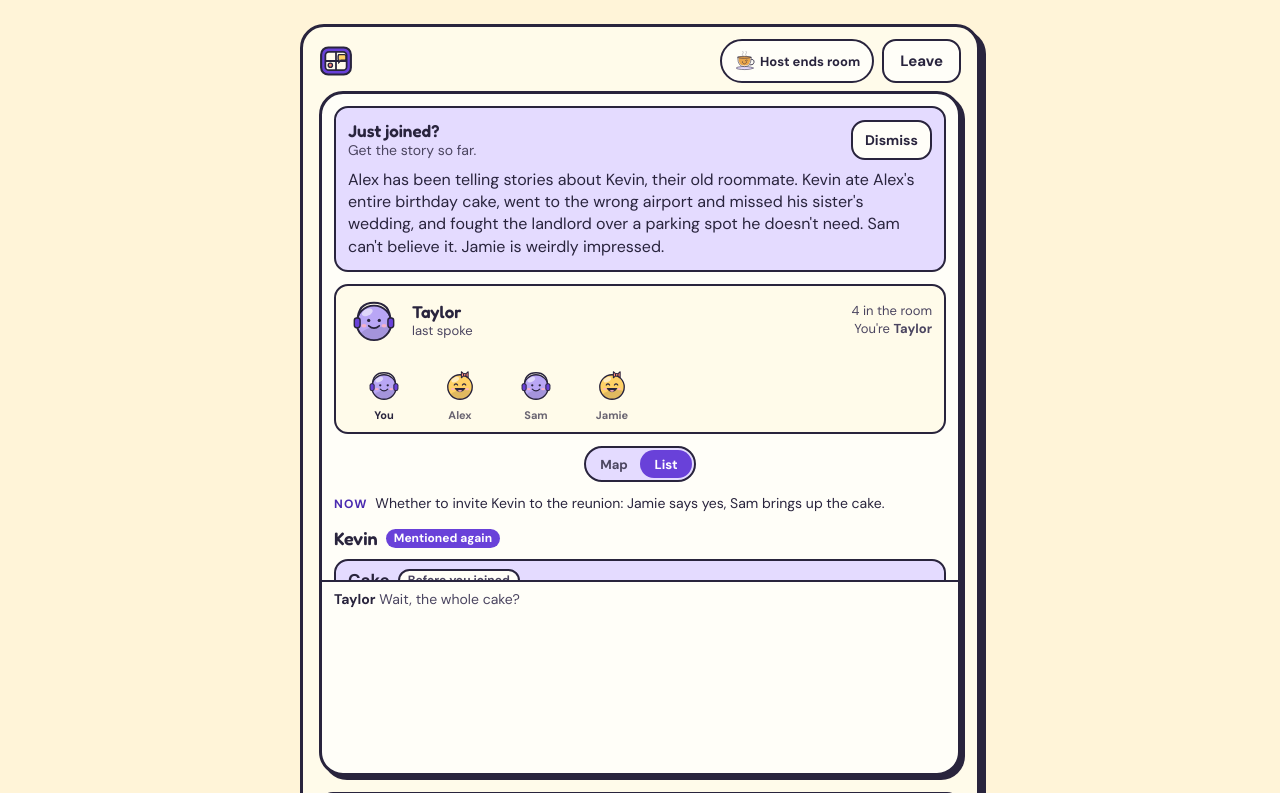
it: Leave on the room screen › asks before leaving, and Stay keeps me in the room
The image size is (1280, 793).
Click the button "Leave" at (922, 61), box x1=882 y1=39 x2=961 y2=83
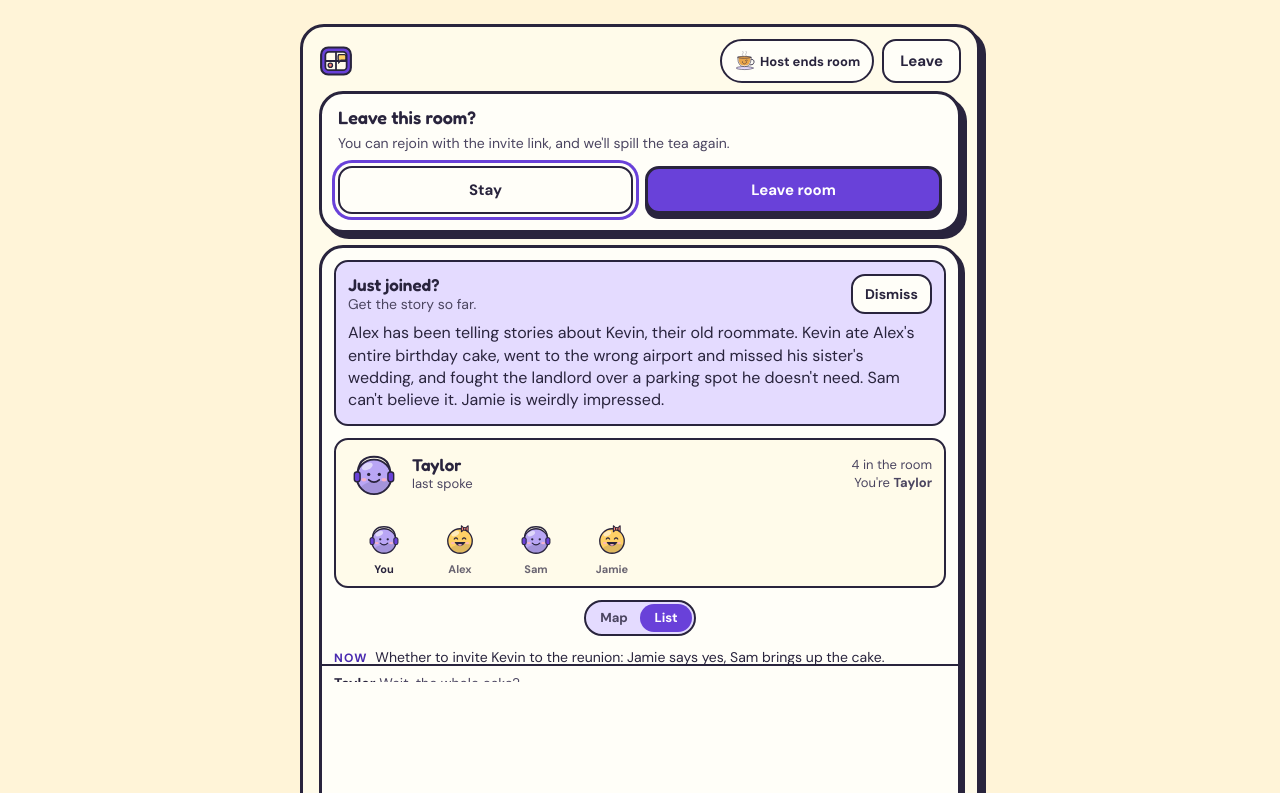
Result: the dialog "Leave this room?" shows "rejoin with the invite link" at x1=338 y1=134 x2=730 y2=152
Click the button "Stay" at (486, 190), box x1=338 y1=166 x2=633 y2=214
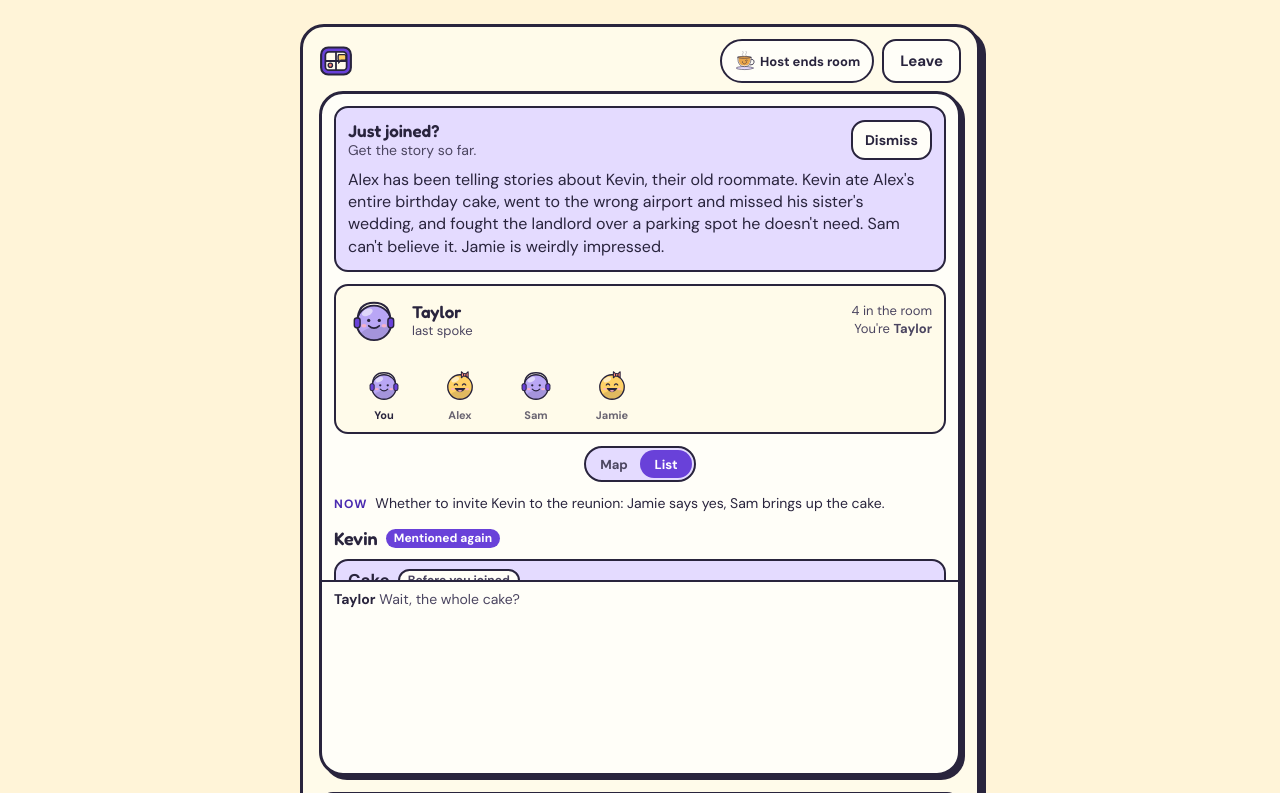
Result: the dialog is gone
